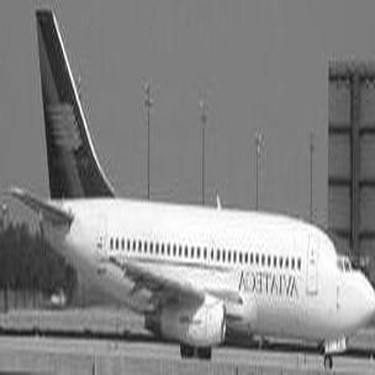airplane: (3, 3, 372, 372)
